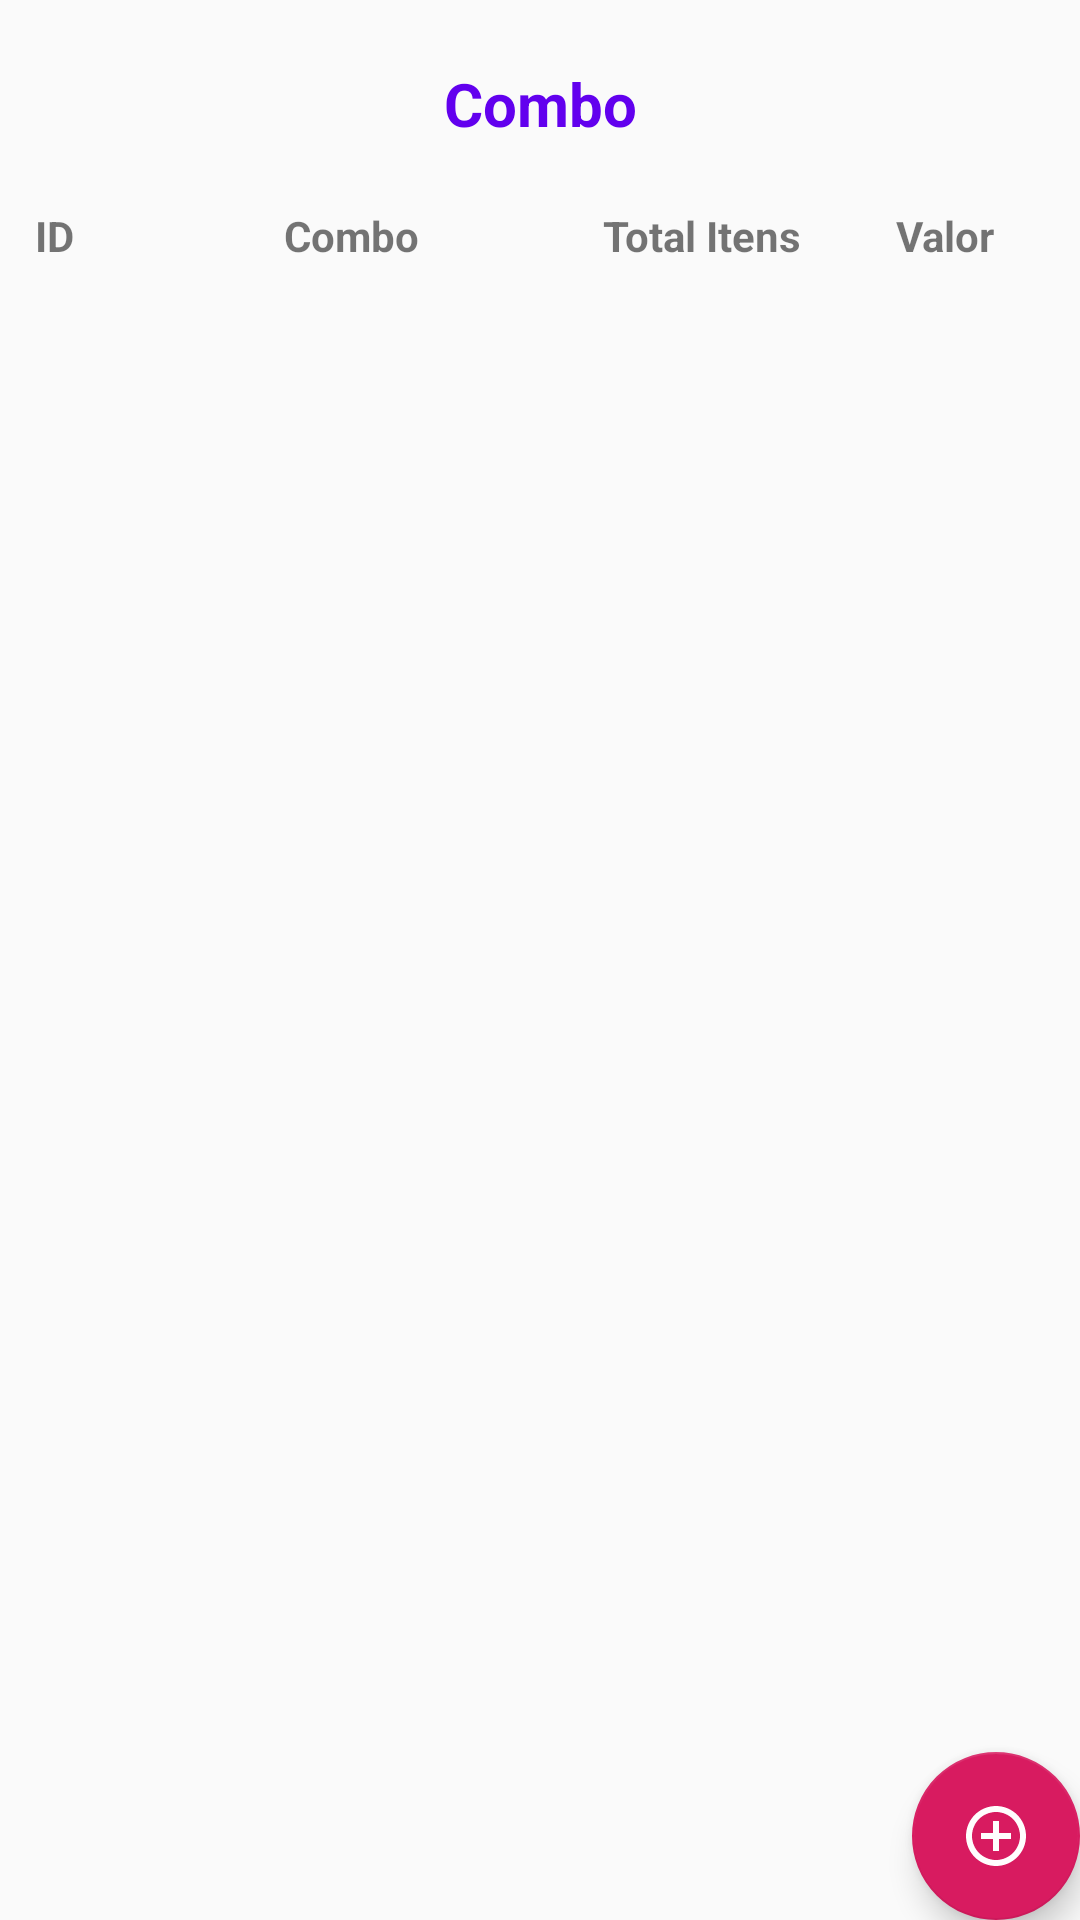

Screen size 1080x1920. Icon name, then its center in pixels as (x=x, y=y):
add circle: (x=996, y=1836)
